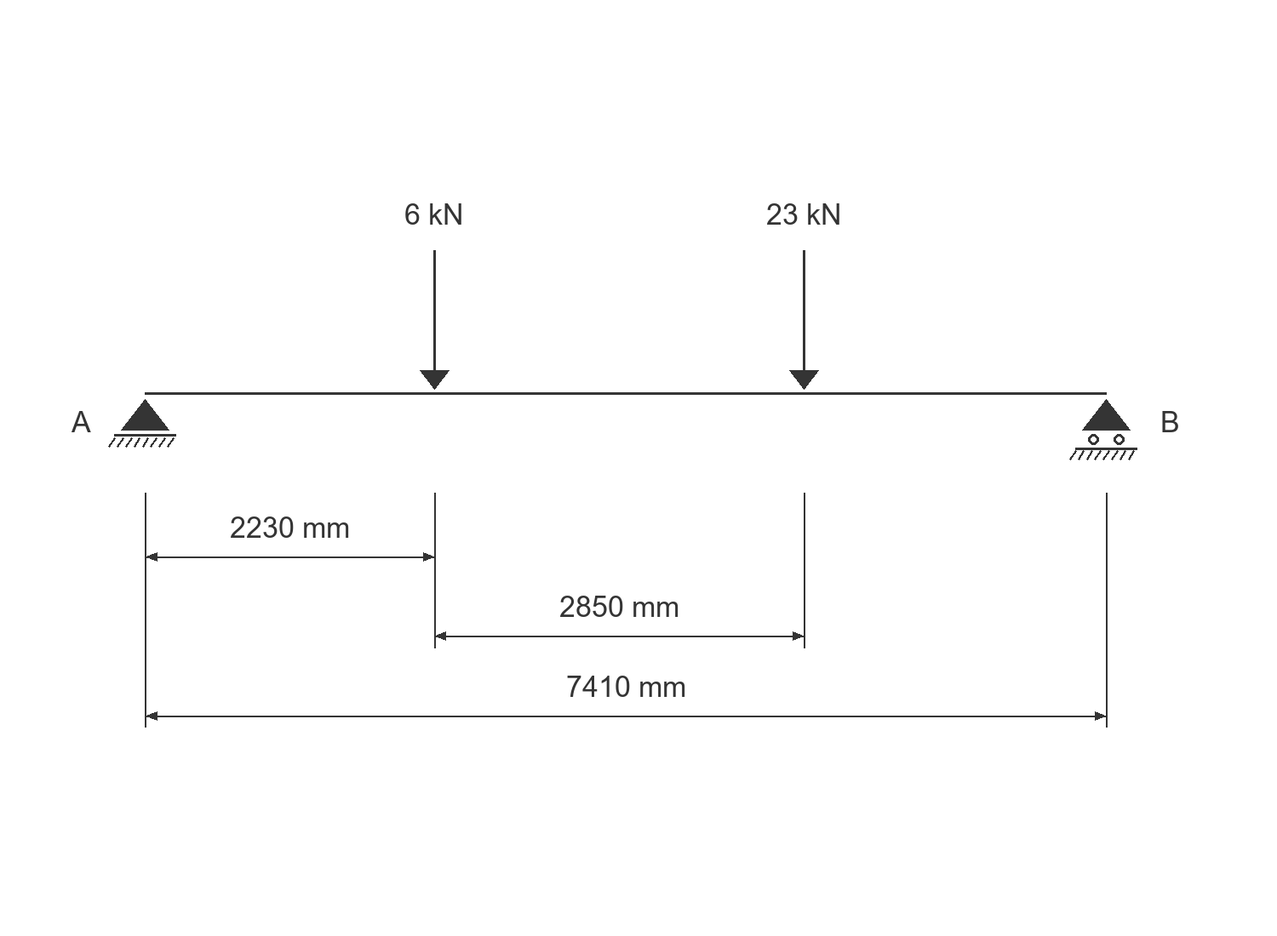pin_support: (108, 399, 176, 448)
point_load: (420, 250, 450, 390), (789, 250, 819, 390)
roller_support: (1069, 399, 1137, 460)
